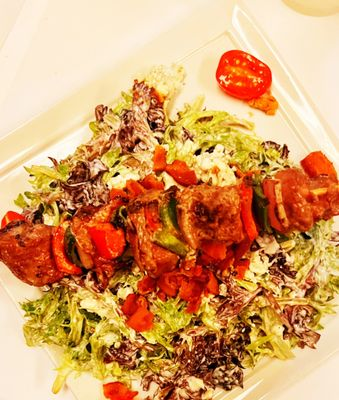sandwich: (0, 72, 338, 398)
